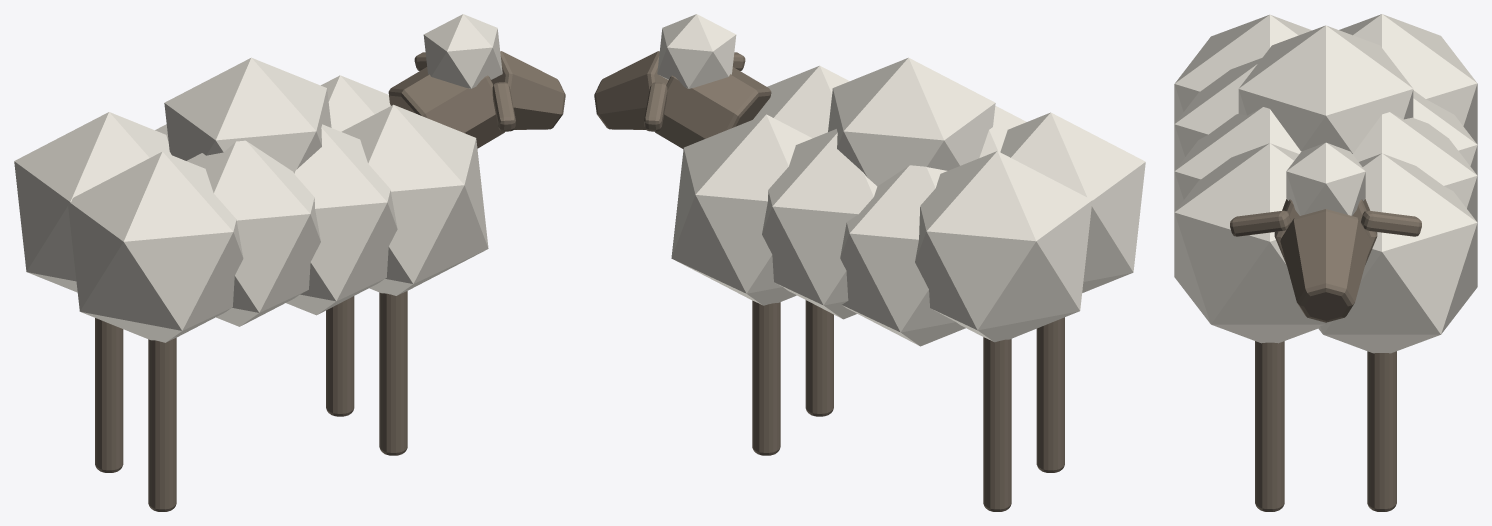
Rendered from Sheep.fbx.
The picture shows the model from 3 angles, left to right: view 1: azimuth 30°, elevation 25°; view 2: azimuth 150°, elevation 25°; view 3: azimuth 270°, elevation 25°; orthographic projection. The views are drawn at different scales.
Parts seen in each view (by area): view 1: Sheep; view 2: Sheep; view 3: Sheep.
Part boxes in pixels (x1,y1,x2,y2): Sheep: [14, 14, 565, 511]; Sheep: [594, 14, 1145, 511]; Sheep: [1174, 14, 1477, 511].
Bounding box in the file's own units: 1.31 × 1 × 0.6483.
